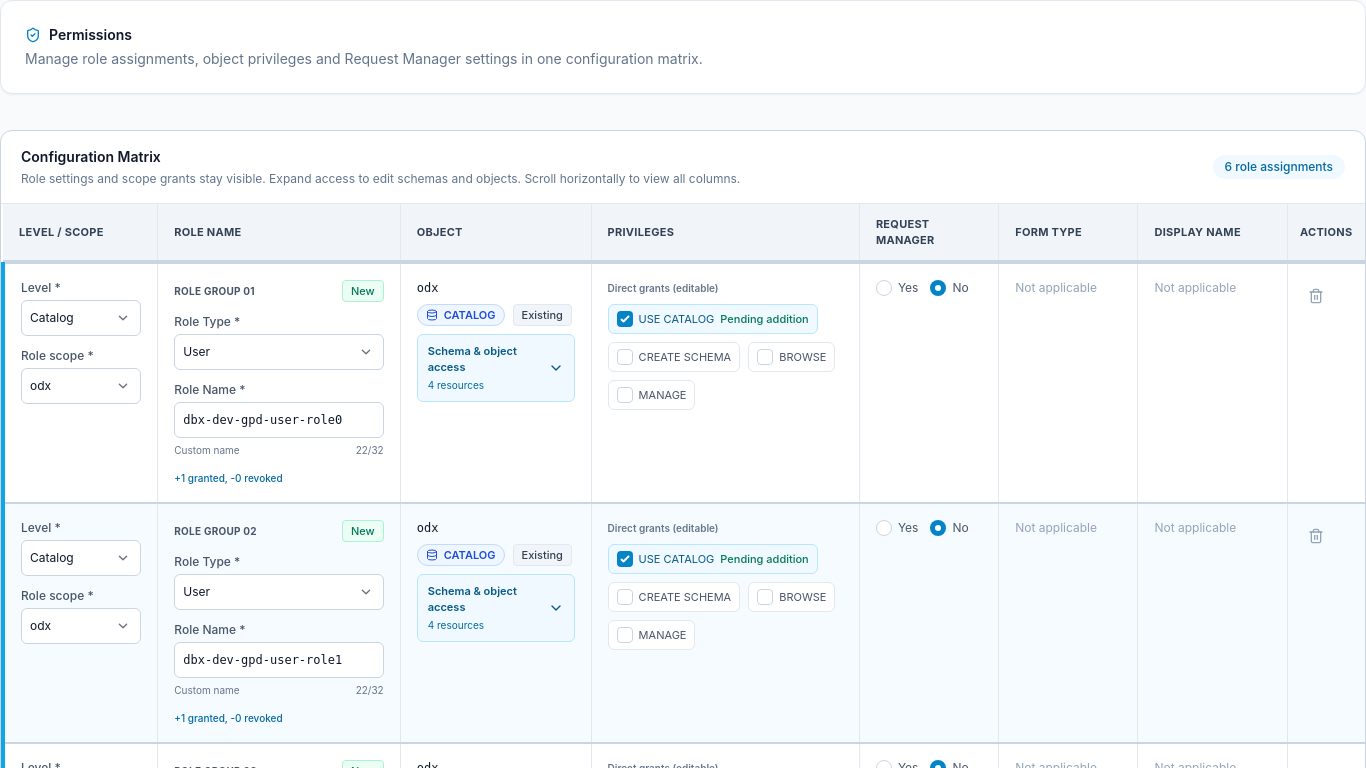
Test: role assignment matrix › paginates complete groups and preserves grants and expanded access across pages
Later steps or results of the test are not shown.
Click the button with aria-label "access for". click: (496, 368)
box: [417,334,575,402]
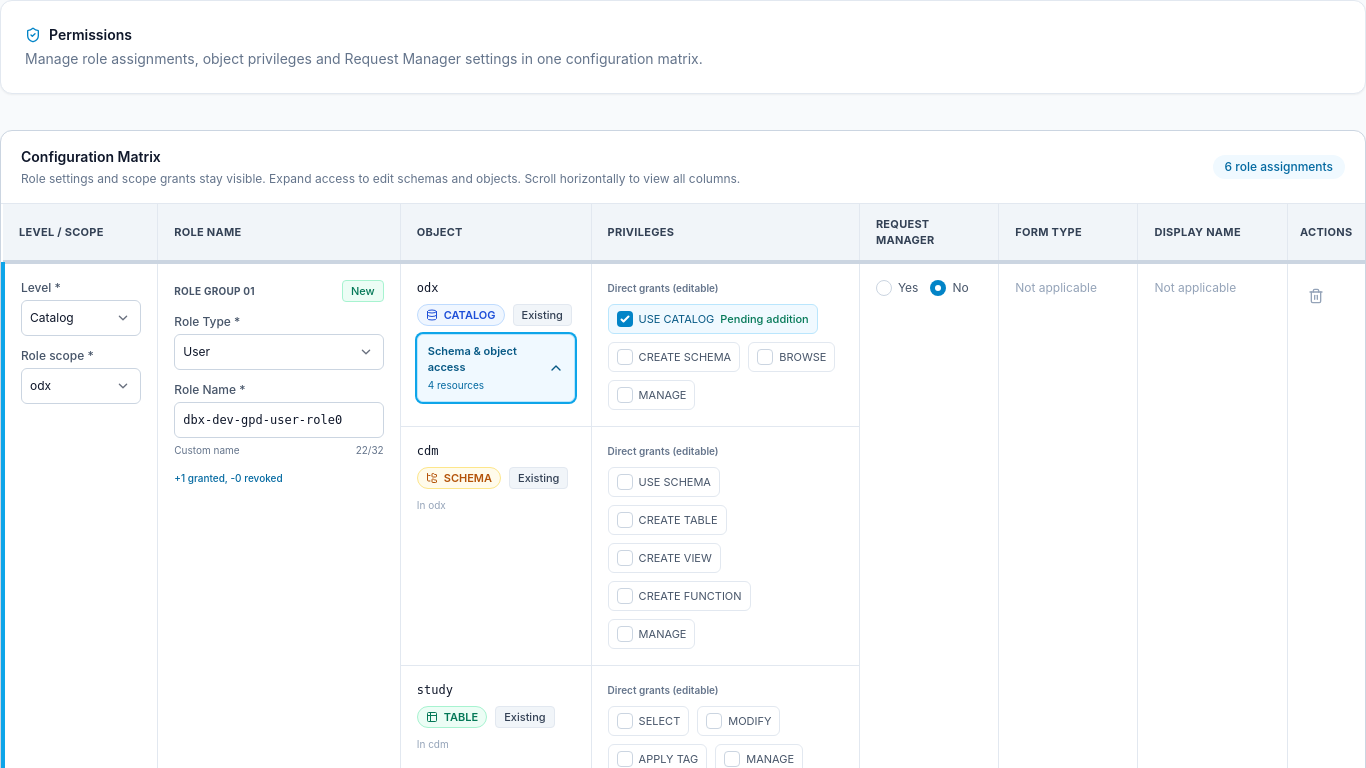
Click the checkbox named "study: SELECT". click: (625, 721)
box: [617,713,633,729]
(page scrolled)
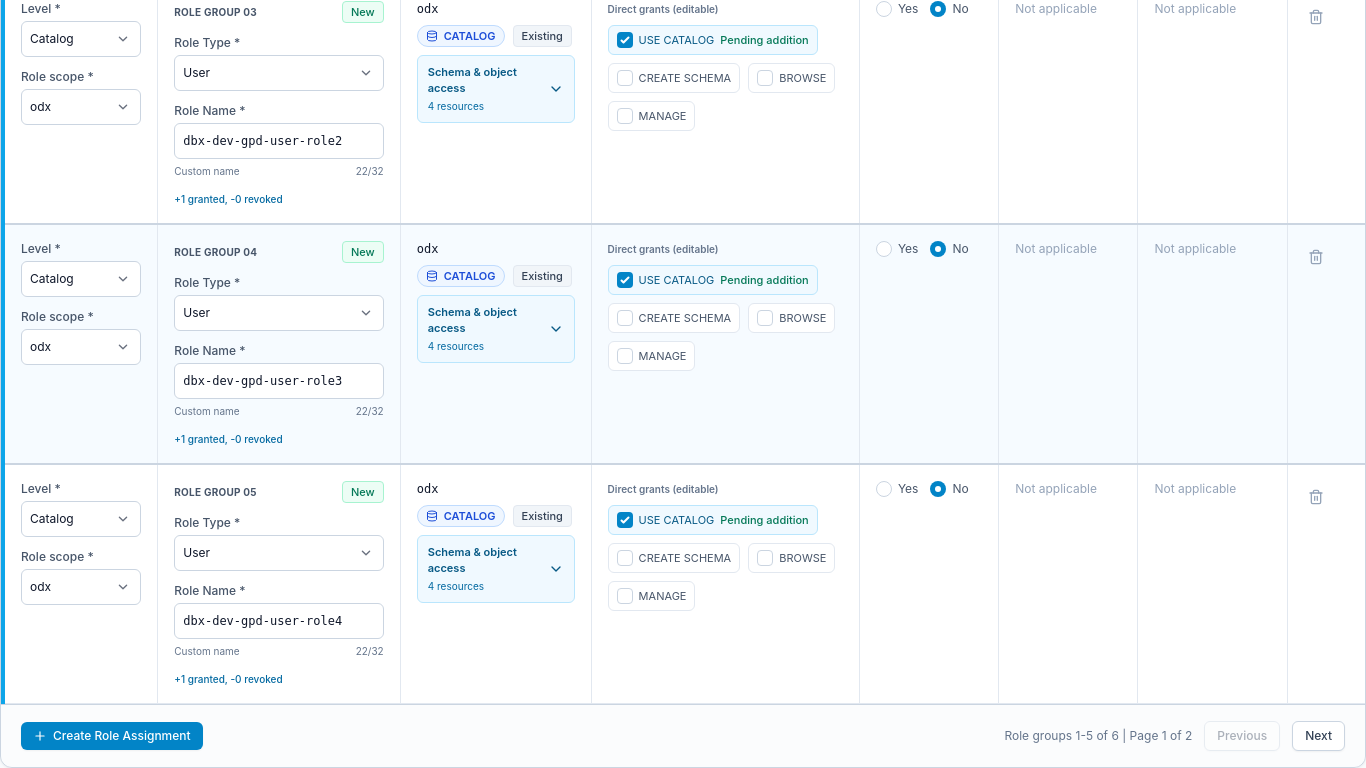
Click the button with aria-label "Next role groups page". click: (1319, 736)
box: [1292,721,1345,751]
(page scrolled)
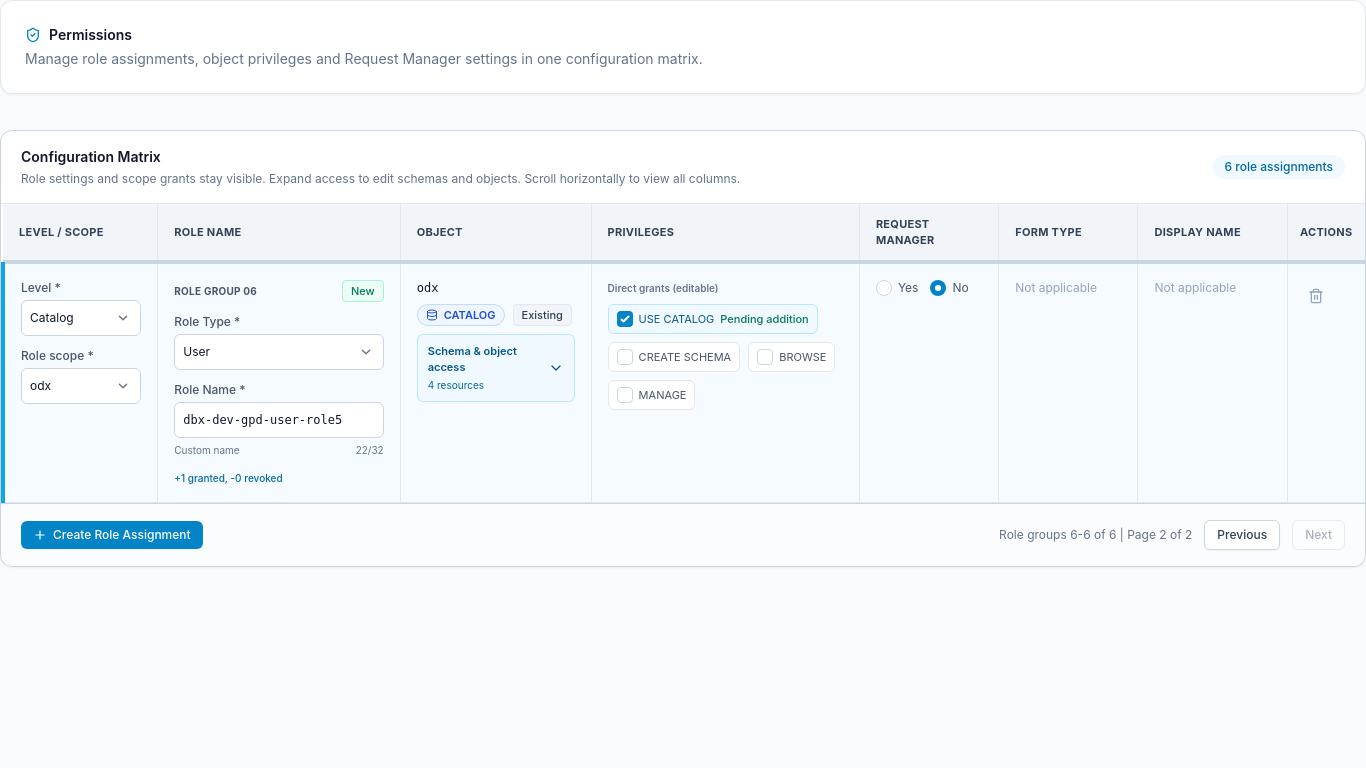
Expected: the number of tables named "Role assignment:" is 1, [3,263,1365,502]
Expected: the text "Role group 06" is shown, [174,283,257,299]
Expected: the text "Role groups 6-6 of 6 | Page 2 of 2" is shown, [999,527,1192,543]
